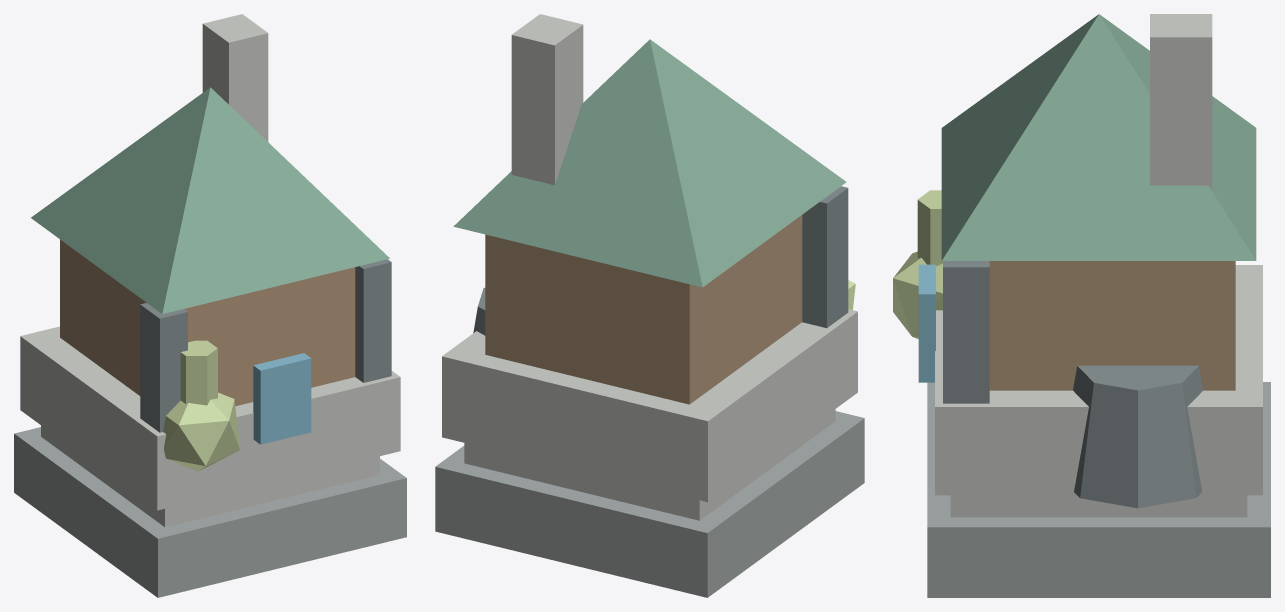
Rendered from human_alchemist_t3.glb.
3 views of the same model, side by side, from view 1: azimuth 30°, elevation 25°; view 2: azimuth 150°, elevation 25°; view 3: azimuth 270°, elevation 25° (orthographic). The views are drawn at different scales.
Parts seen in each view (by area): view 1: human_alchemist_t3_MAT_leaf, human_alchemist_t3_MAT_stone, human_alchemist_t3_MAT_dark, human_alchemist_t3_MAT_wood, human_alchemist_t3_MAT_iron, human_alchemist_t3_MAT_poison, human_alchemist_t3_MAT_blue; view 2: human_alchemist_t3_MAT_stone, human_alchemist_t3_MAT_leaf, human_alchemist_t3_MAT_wood, human_alchemist_t3_MAT_dark, human_alchemist_t3_MAT_iron; view 3: human_alchemist_t3_MAT_leaf, human_alchemist_t3_MAT_stone, human_alchemist_t3_MAT_dark, human_alchemist_t3_MAT_wood, human_alchemist_t3_MAT_iron, human_alchemist_t3_MAT_poison, human_alchemist_t3_MAT_blue.
Part boxes in pixels (x1,y1,x2,y2): human_alchemist_t3_MAT_leaf: (31,87,389,313); human_alchemist_t3_MAT_stone: (20,14,400,527); human_alchemist_t3_MAT_dark: (14,427,406,597); human_alchemist_t3_MAT_wood: (60,239,355,406); human_alchemist_t3_MAT_iron: (140,259,391,432); human_alchemist_t3_MAT_poison: (163,340,239,471); human_alchemist_t3_MAT_blue: (253,353,311,444); human_alchemist_t3_MAT_stone: (442,14,857,520); human_alchemist_t3_MAT_leaf: (453,39,846,287); human_alchemist_t3_MAT_wood: (485,215,802,404); human_alchemist_t3_MAT_dark: (435,411,864,597); human_alchemist_t3_MAT_iron: (473,186,848,335); human_alchemist_t3_MAT_leaf: (941,14,1256,260); human_alchemist_t3_MAT_stone: (935,14,1262,517); human_alchemist_t3_MAT_dark: (927,382,1270,597); human_alchemist_t3_MAT_wood: (989,261,1235,390); human_alchemist_t3_MAT_iron: (943,261,1203,508); human_alchemist_t3_MAT_poison: (893,190,942,338); human_alchemist_t3_MAT_blue: (918,264,935,382).
Size of the model in its own units: 0.97 by 1.51 by 0.9676.
